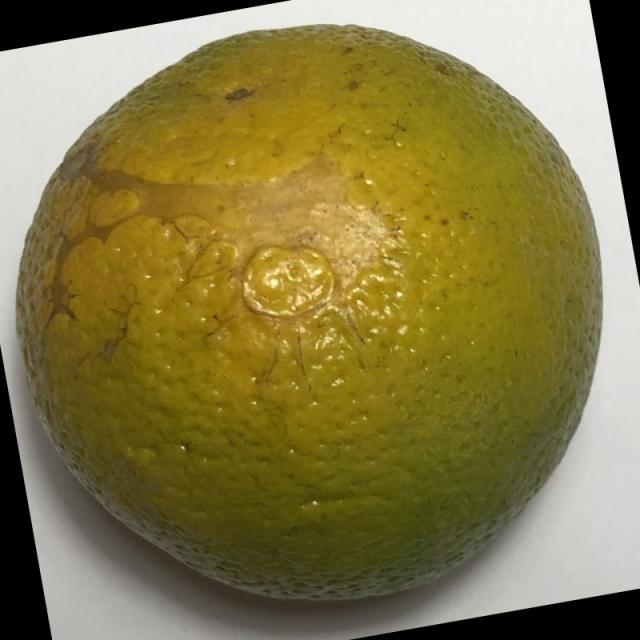canker: (16, 18, 612, 629)
